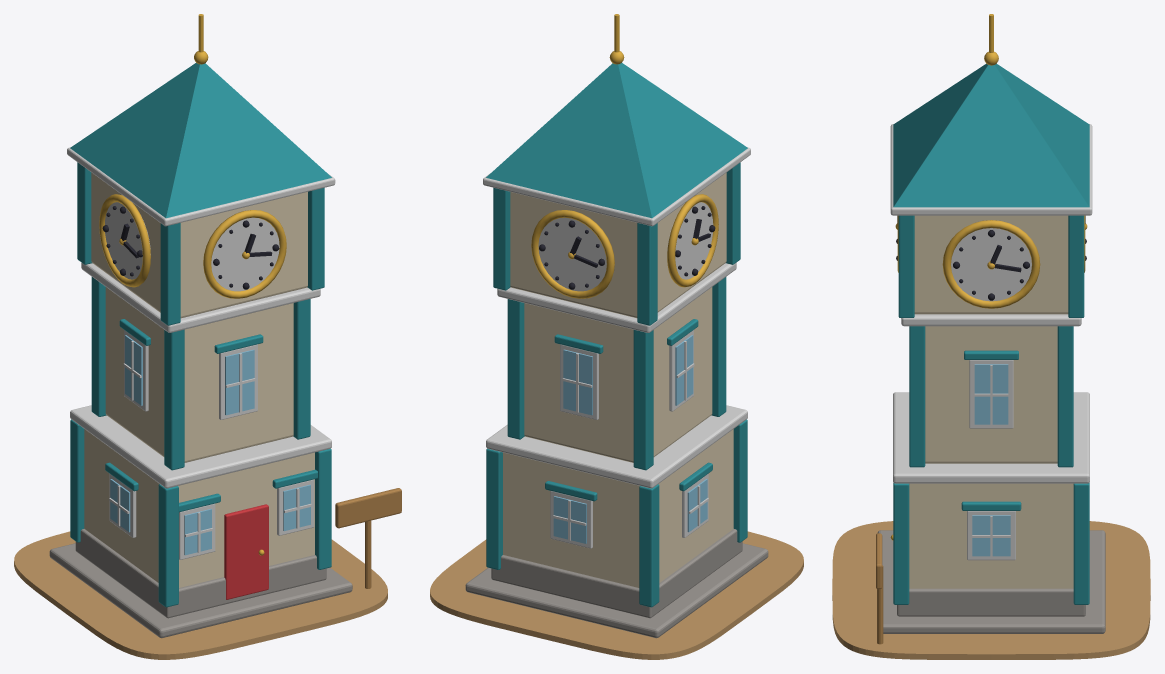
File: clock-tower-stage-4-merged.79ae0868.glb
3 renders of one model, left to right at view 1: azimuth 30°, elevation 25°; view 2: azimuth 150°, elevation 25°; view 3: azimuth 270°, elevation 25°, orthographic. The views are drawn at different scales.
Parts seen in each view (by area): view 1: ClockTower_Stage4__T_vcol; view 2: ClockTower_Stage4__T_vcol; view 3: ClockTower_Stage4__T_vcol.
Boxes of the visible parts, x1,y1,x2,y2 form: ClockTower_Stage4__T_vcol: (14,14,401,659); ClockTower_Stage4__T_vcol: (430,14,803,659); ClockTower_Stage4__T_vcol: (832,14,1150,659).
Bounding box in the file's own units: 4.98 × 9.62 × 4.8.
